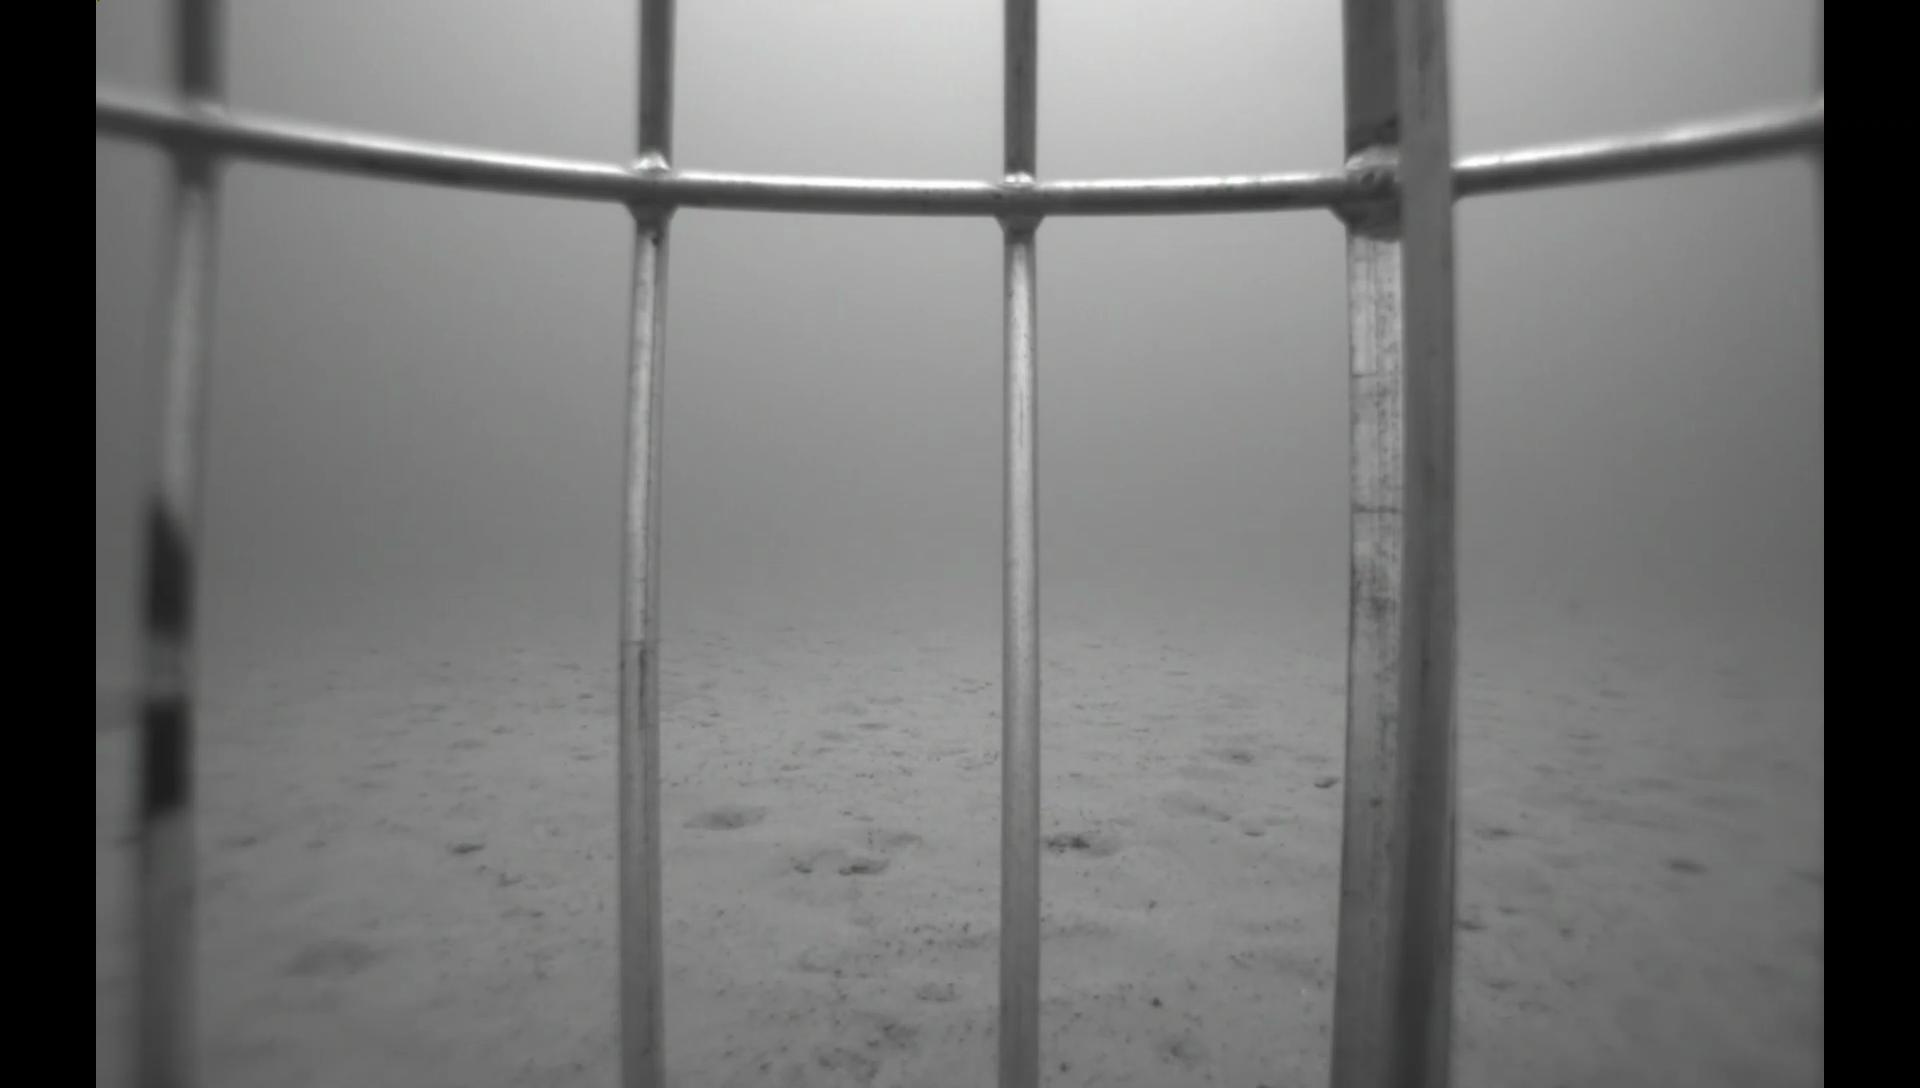CAULOLATILUSCYANOPS-170070101: (562, 671, 735, 720)
